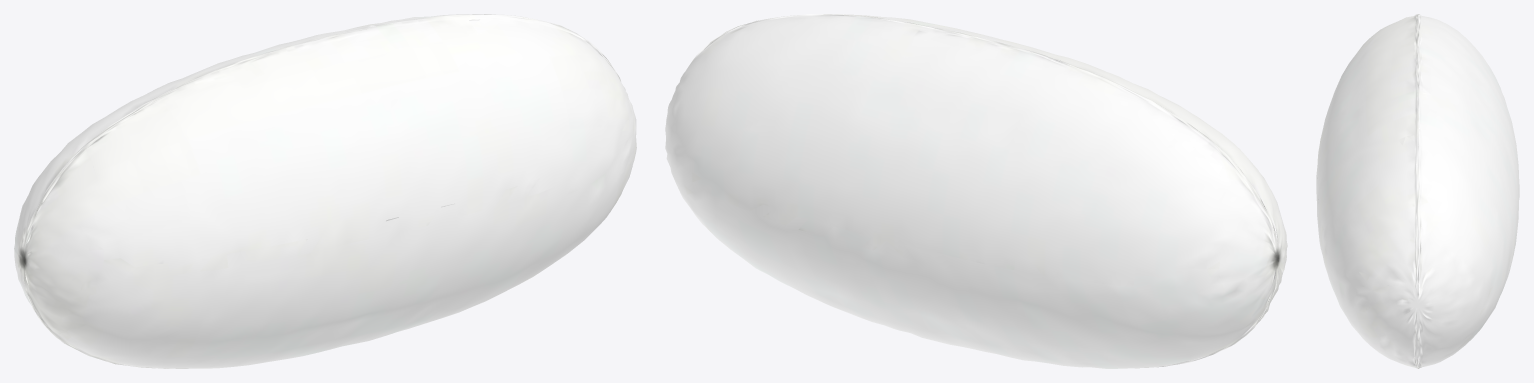
The model's file is brazo.glb.
3 views of the same model, side by side, from view 1: azimuth 30°, elevation 25°; view 2: azimuth 150°, elevation 25°; view 3: azimuth 270°, elevation 25° (orthographic). The views are drawn at different scales.
Visible parts, largest first — view 1: Mesh_0; view 2: Mesh_0; view 3: Mesh_0.
Boxes of the visible parts, box(x1,y1,x2,y2) form: Mesh_0: box(14, 14, 636, 368); Mesh_0: box(665, 14, 1287, 368); Mesh_0: box(1316, 14, 1519, 368).
Bounding box in the file's own units: 0.19 × 0.0935 × 0.0698.
Materials: 1 (1 with a texture image).
